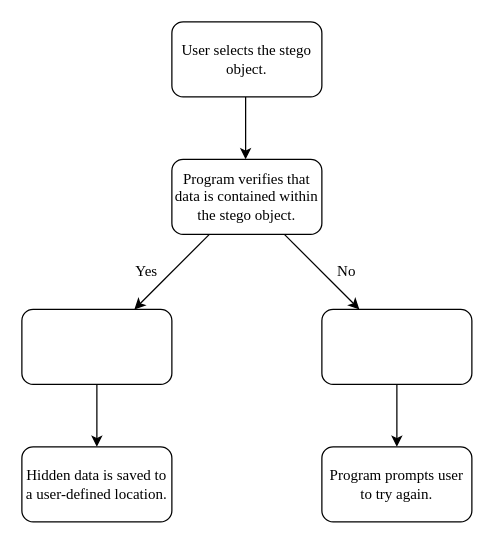
This 494x544 diagram has some shape labels left out. The shapes that lost their labels are listed below. From the top down, each one's box as (x1, y1, x2, y2) in pixels, then its label:
(21, 308, 172, 384): Hidden data and cover image are separated.
(321, 308, 472, 384): Program returns an error.
